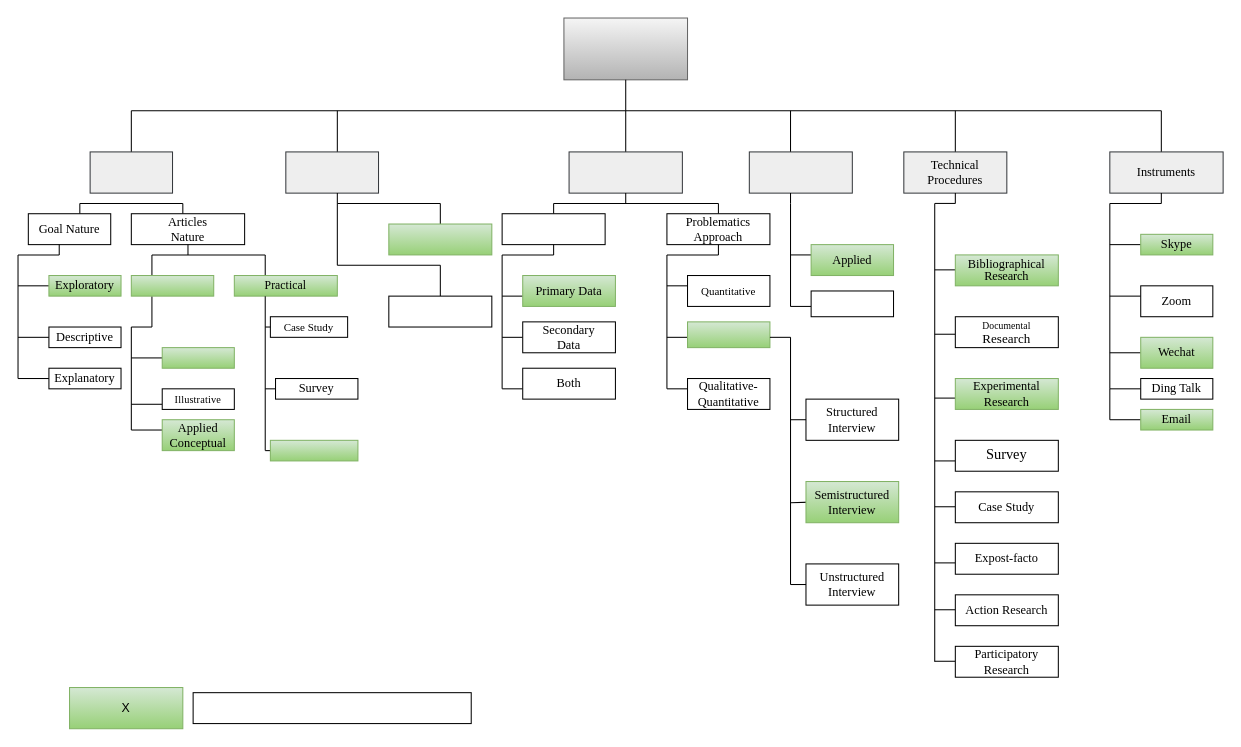
The diagram is 1241 pixels wide and 747 high, and some of its shapes have lost their labels. The centre of each missing label's shape, as x and y in pixels:
"Basic" goes at (x=852, y=303).
"Conceptual" goes at (x=197, y=357).
"Data Gathering" goes at (x=553, y=229).
"Deductive" goes at (x=440, y=239).
"Experimental" goes at (x=313, y=450).
"Inductive" goes at (x=440, y=311).
"Methodological Framework" goes at (x=625, y=48).
"Methodological framework adopted" goes at (x=331, y=708).
"Qualitative" goes at (x=728, y=334).
"Research Goal" goes at (x=131, y=172).
"Research Logic" goes at (x=332, y=172).
"Research Process" goes at (x=625, y=172).
"Research Results" goes at (x=800, y=172).
"Theoretical" goes at (x=172, y=285).
